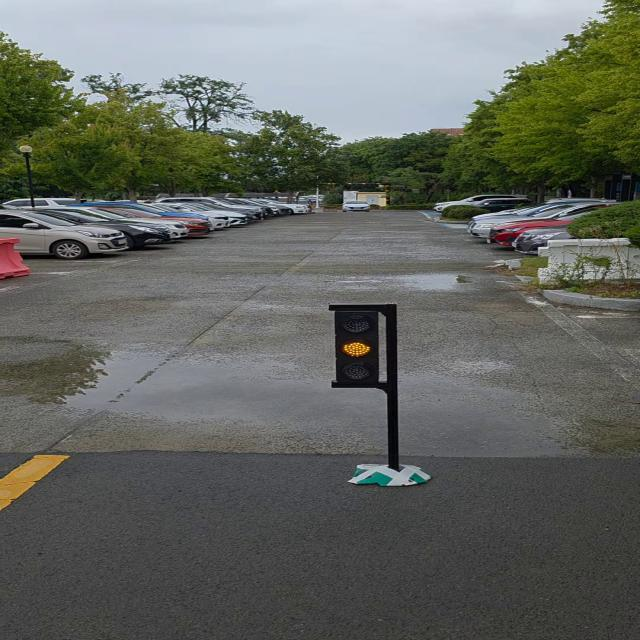yellow: (330, 306, 386, 392)
